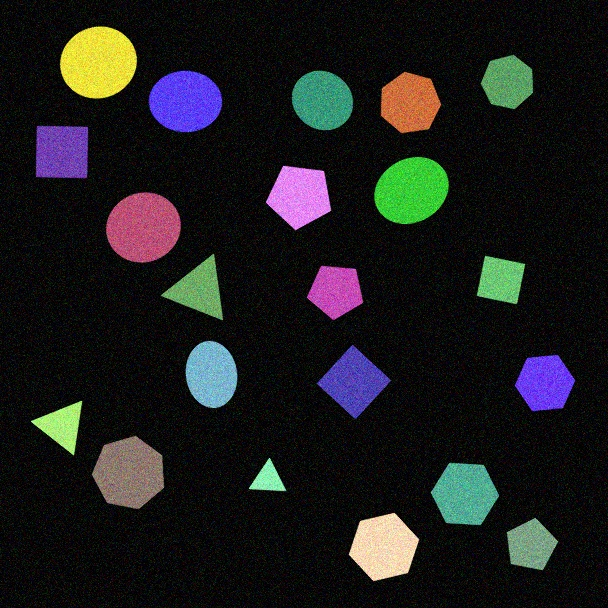Circulo: (59, 26, 138, 99), (105, 192, 182, 263), (291, 70, 354, 131)
Elipse: (374, 156, 449, 225), (148, 70, 223, 133), (185, 340, 238, 409)
Heptagono: (91, 435, 165, 510), (380, 71, 442, 134), (480, 54, 534, 110)
Hexagono: (348, 512, 420, 582), (430, 462, 500, 526), (514, 354, 576, 412)
Pentagono: (265, 165, 332, 231), (306, 265, 364, 321), (506, 517, 559, 571)
Quadrado: (316, 344, 392, 420), (35, 125, 89, 179), (476, 255, 526, 305)
Triangulo: (161, 253, 224, 321), (31, 400, 83, 456), (248, 458, 287, 492)
